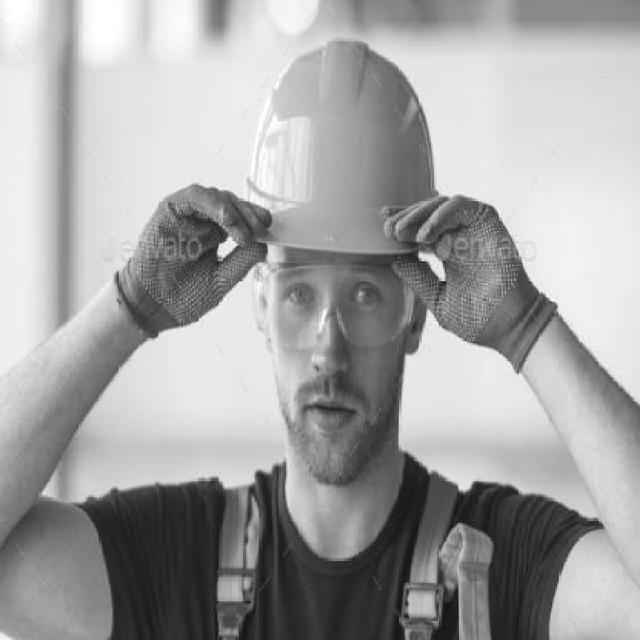face_nomask: (272, 271, 392, 447)
glasses: (247, 256, 418, 349)
hand_glove: (392, 184, 566, 353), (110, 174, 276, 346)
head_helmet: (234, 38, 443, 254)
person: (80, 32, 603, 640)
